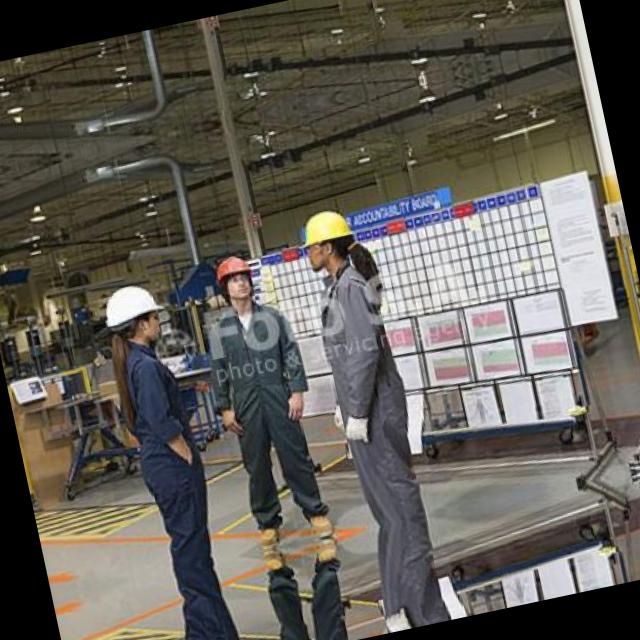helmet: (94, 272, 174, 360), (290, 199, 363, 281), (204, 246, 268, 314)
